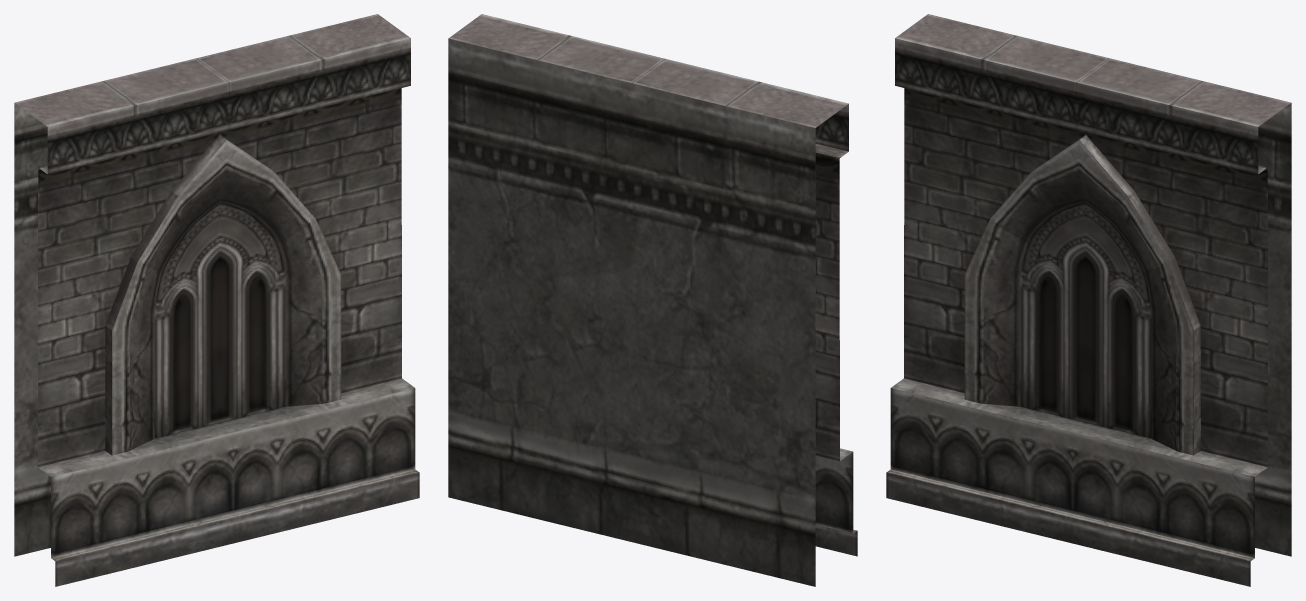
The picture shows the model from 3 angles, left to right: view 1: azimuth 30°, elevation 25°; view 2: azimuth 150°, elevation 25°; view 3: azimuth 330°, elevation 25°; orthographic projection.
Visible parts, largest first — view 1: object04; view 2: object04; view 3: object04.
Part boxes in pixels (x1,y1,x2,y2): object04: [14, 14, 419, 586]; object04: [448, 14, 857, 586]; object04: [886, 14, 1291, 586].
Bounding box in the file's own units: 296 × 353 × 58.12.
1 material, 1 textured.
